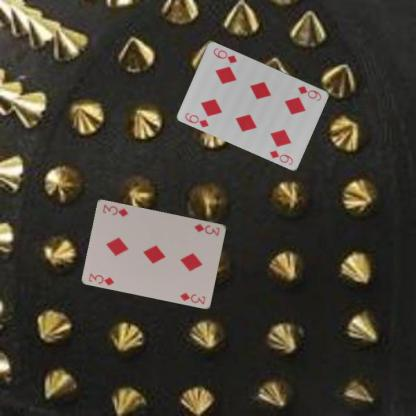3d: (86, 270, 116, 286), (192, 221, 221, 237)
6d: (295, 83, 323, 102), (183, 110, 210, 128)
